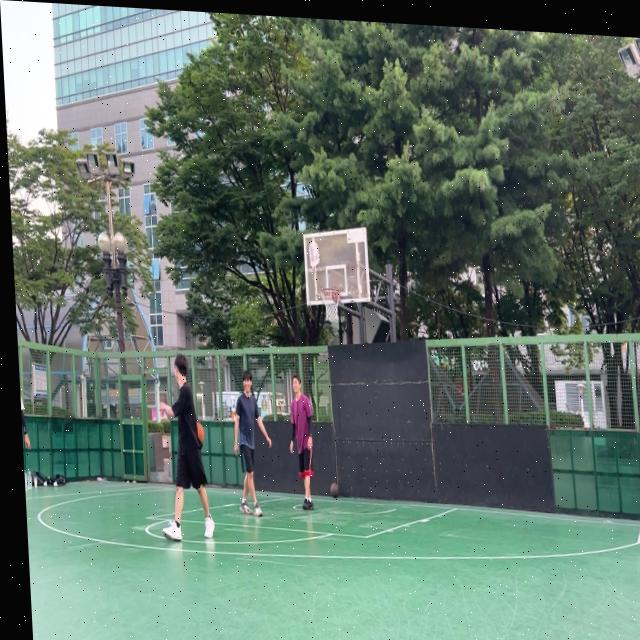basketball: (196, 422, 205, 443), (330, 482, 339, 499)
hoop: (320, 286, 343, 324)
